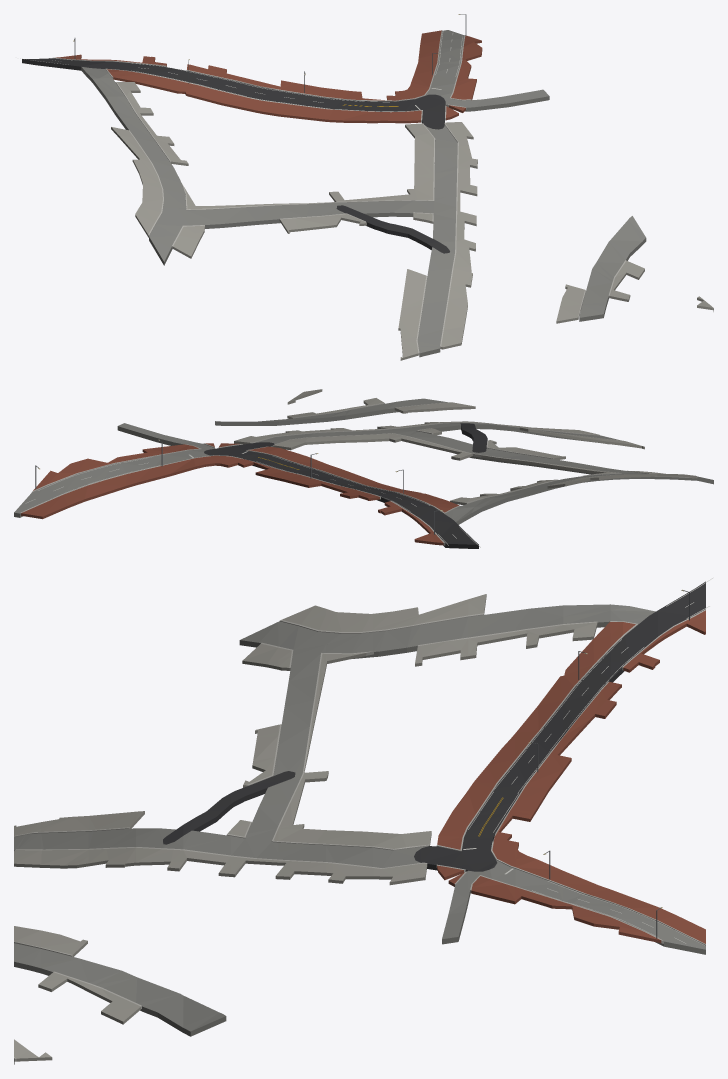
3 renders of one model, top to bottom at view 1: azimuth 30°, elevation 25°; view 2: azimuth 150°, elevation 25°; view 3: azimuth 270°, elevation 25°, orthographic. The views are drawn at different scales.
Size of the model in its own units: 147 by 53.73 by 147.
